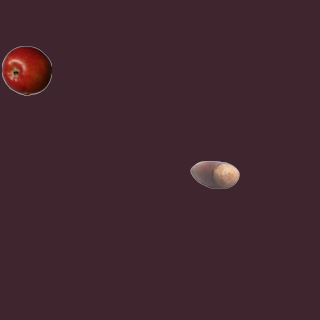Apple Braeburn: (1, 45, 51, 95)
Hazelnut: (189, 149, 239, 199)
